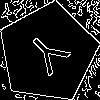Y: (22, 28, 78, 84)
